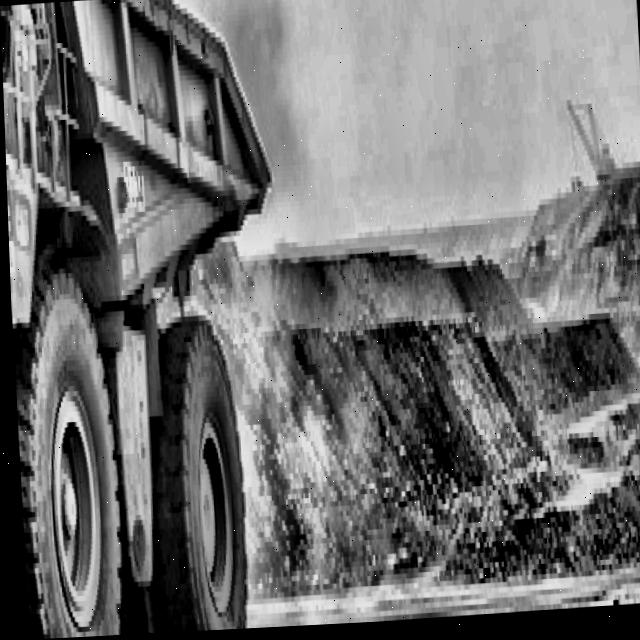dump_truck: (0, 0, 301, 640)
